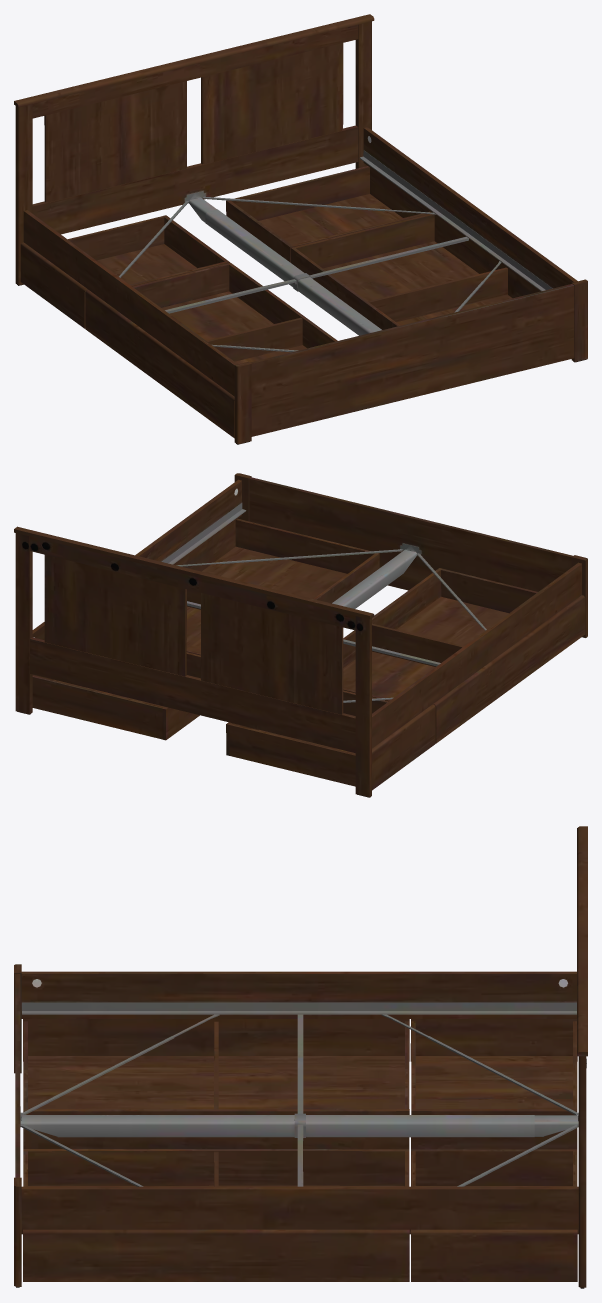
The picture shows the model from 3 angles, top to bottom: view 1: azimuth 30°, elevation 25°; view 2: azimuth 150°, elevation 25°; view 3: azimuth 270°, elevation 25°; orthographic projection. The views are drawn at different scales.
Parts seen in each view (by area): view 1: base_bedsize; view 2: base_bedsize; view 3: base_bedsize.
Part boxes in pixels (bbox=[...]): base_bedsize: bbox=[14, 14, 587, 444]; base_bedsize: bbox=[14, 473, 587, 797]; base_bedsize: bbox=[14, 826, 587, 1288].
Bounding box in the file's own units: 1.93 × 0.9481 × 2.07.
Materials: 1 (1 with a texture image).
